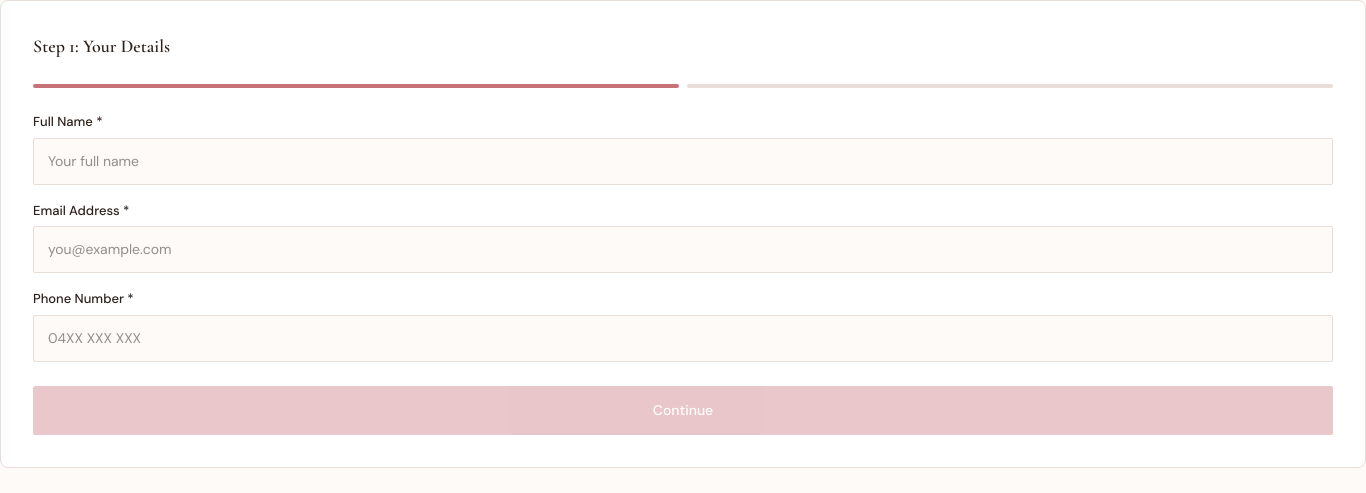
Test: ClaimForm component › shows network error on fetch exception
Type "Test" into the field with placeholder "Your full name" at coordinates (683, 161), box [33, 138, 1333, 184]
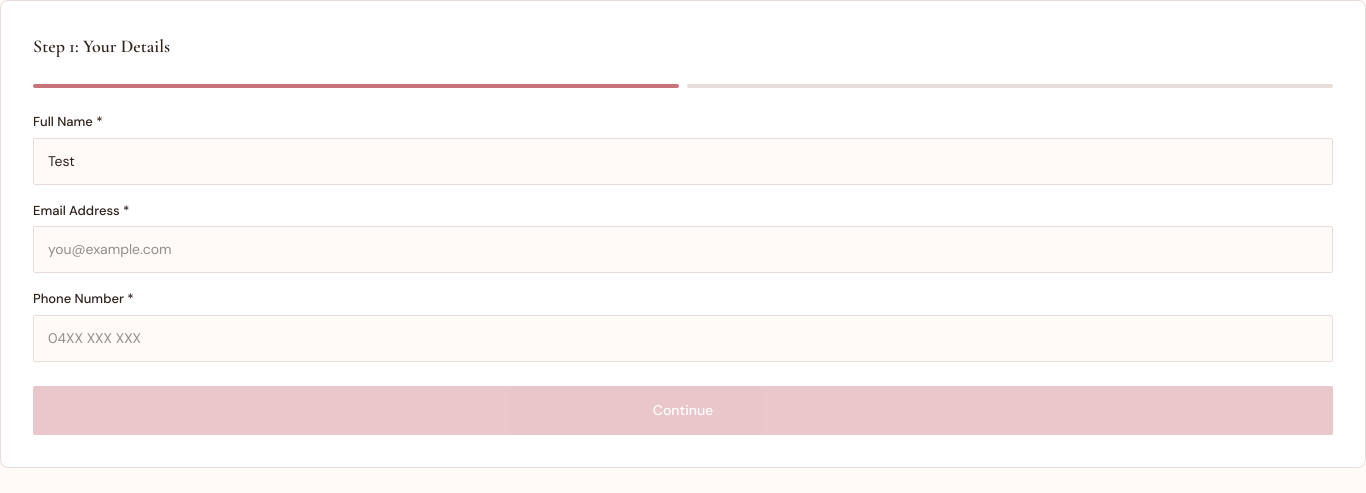
Type "t@t.com" into the field with placeholder "you@example.com" at coordinates (683, 250), box [33, 226, 1333, 273]
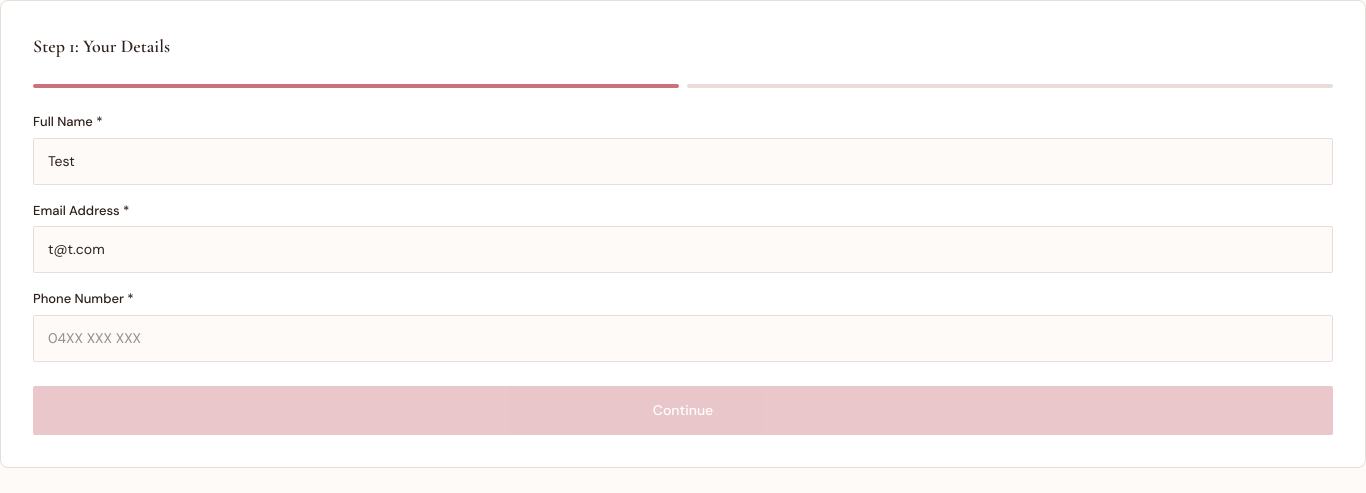
Type "0400000000" into the field with placeholder "04XX XXX XXX" at coordinates (683, 338), box [33, 314, 1333, 362]
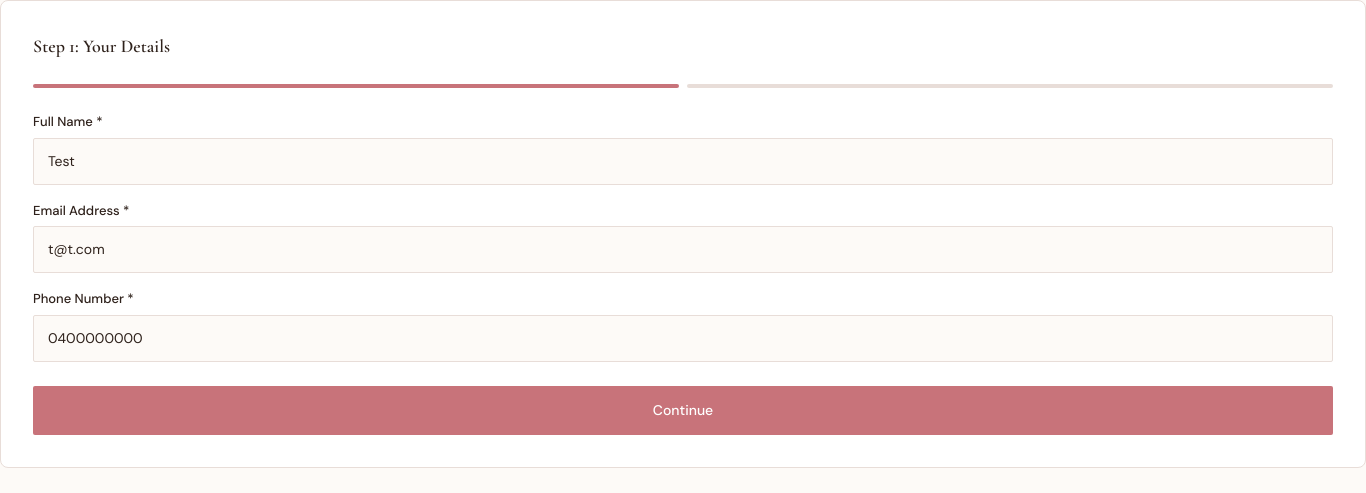
Click the button "Continue" at coordinates (683, 410), box [33, 386, 1333, 434]
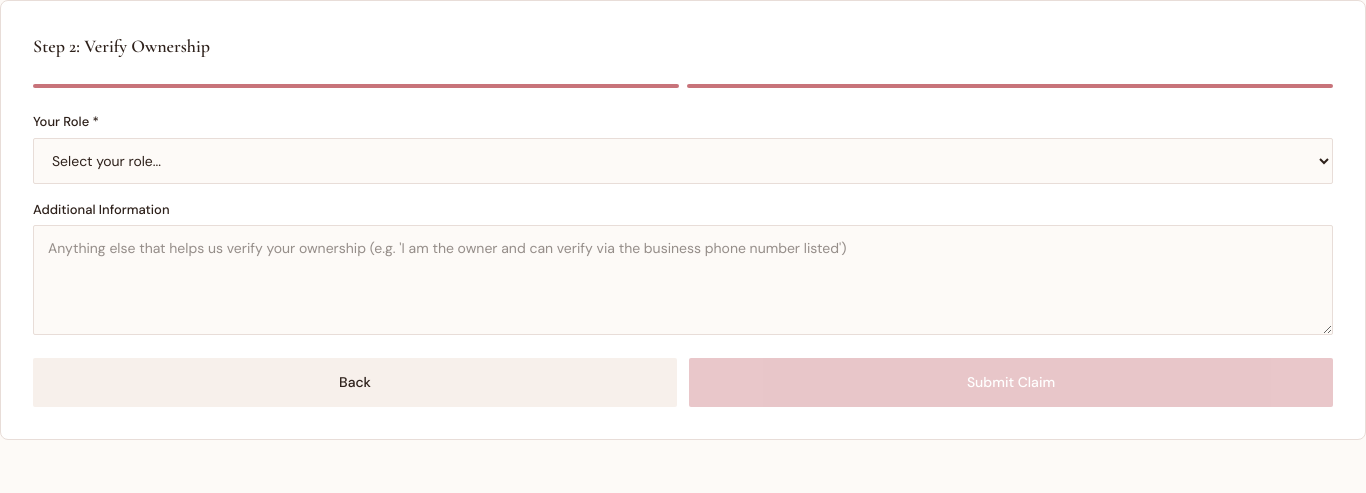
Select "Business Owner" in the dropdown at coordinates (683, 160), box [33, 138, 1333, 184]
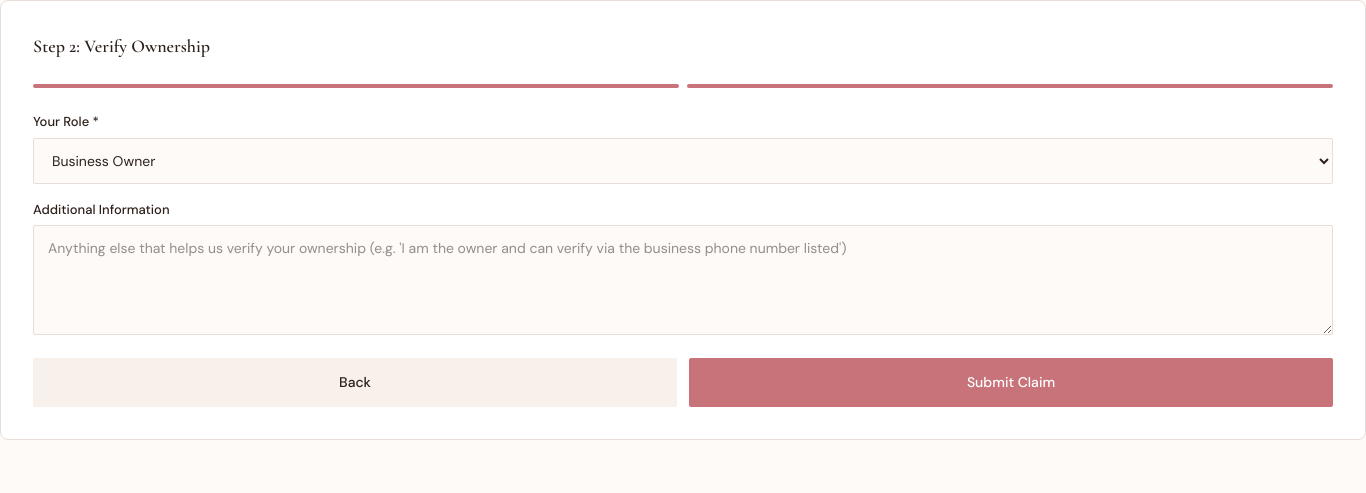
Click the button "Submit Claim" at coordinates (1011, 382), box [689, 358, 1333, 407]
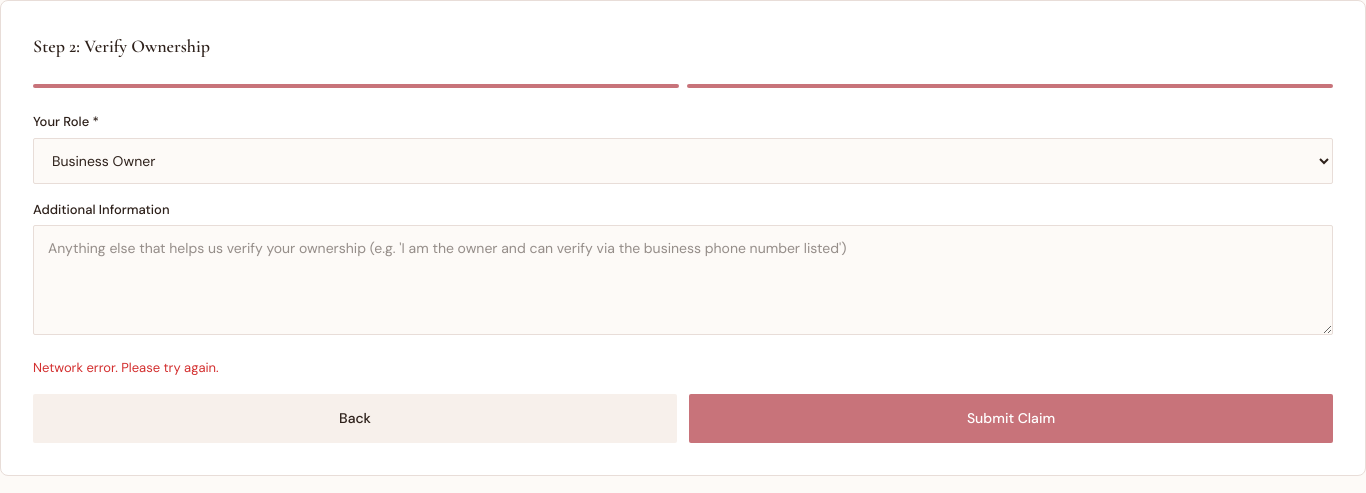
Expected: the text "Network error. Please try again." is shown, [33, 359, 219, 376]
